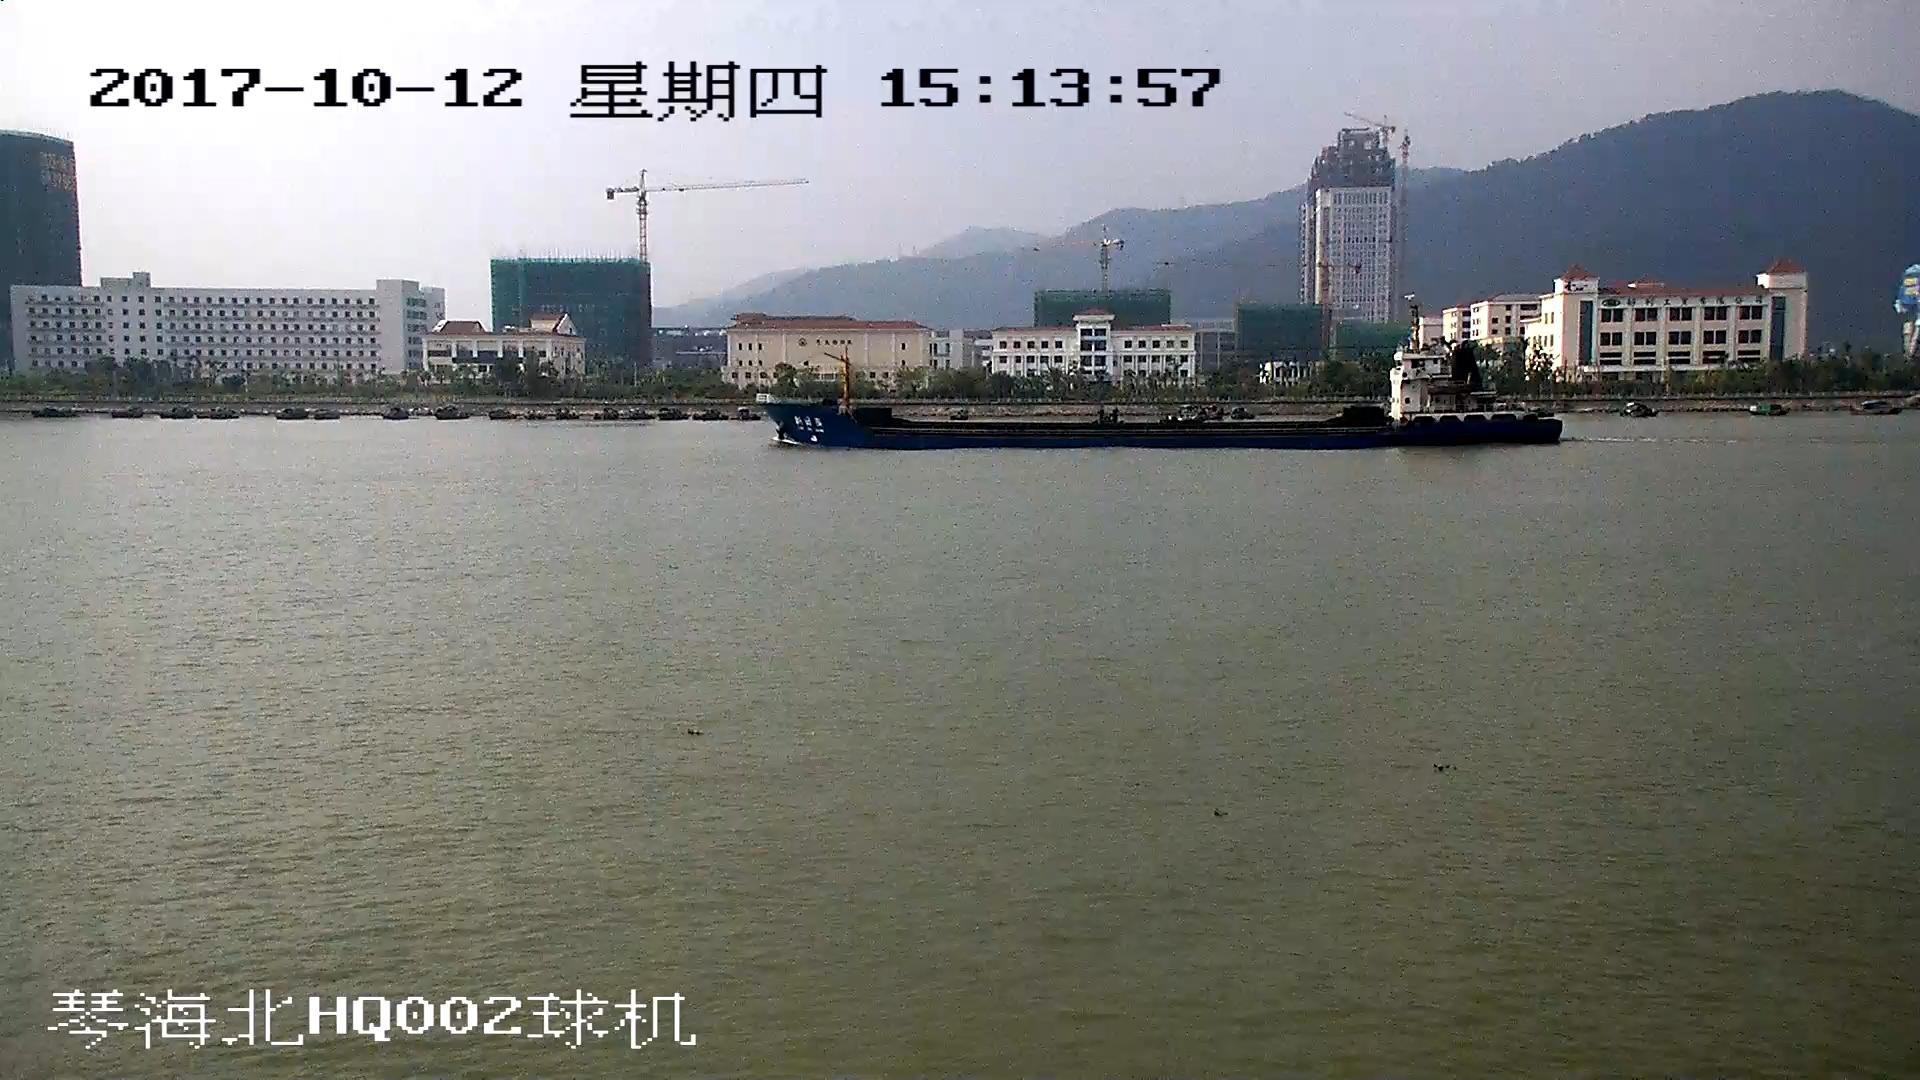general cargo ship: (761, 317, 1564, 447)
